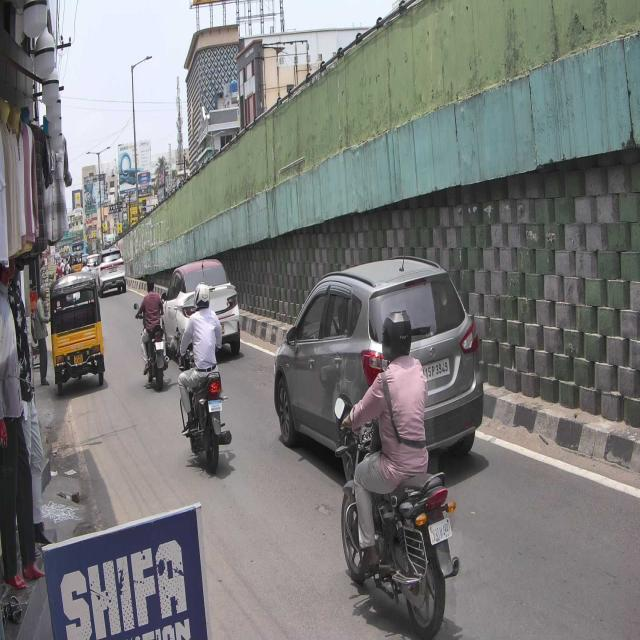single_rider: (334, 308, 461, 640), (176, 277, 233, 473)
